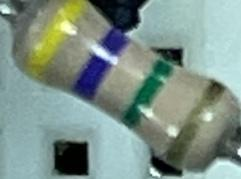Blue: (72, 28, 130, 103)
Green: (119, 58, 176, 131)
Side-Silver: (161, 78, 228, 170)
Yellow: (21, 0, 88, 80)
